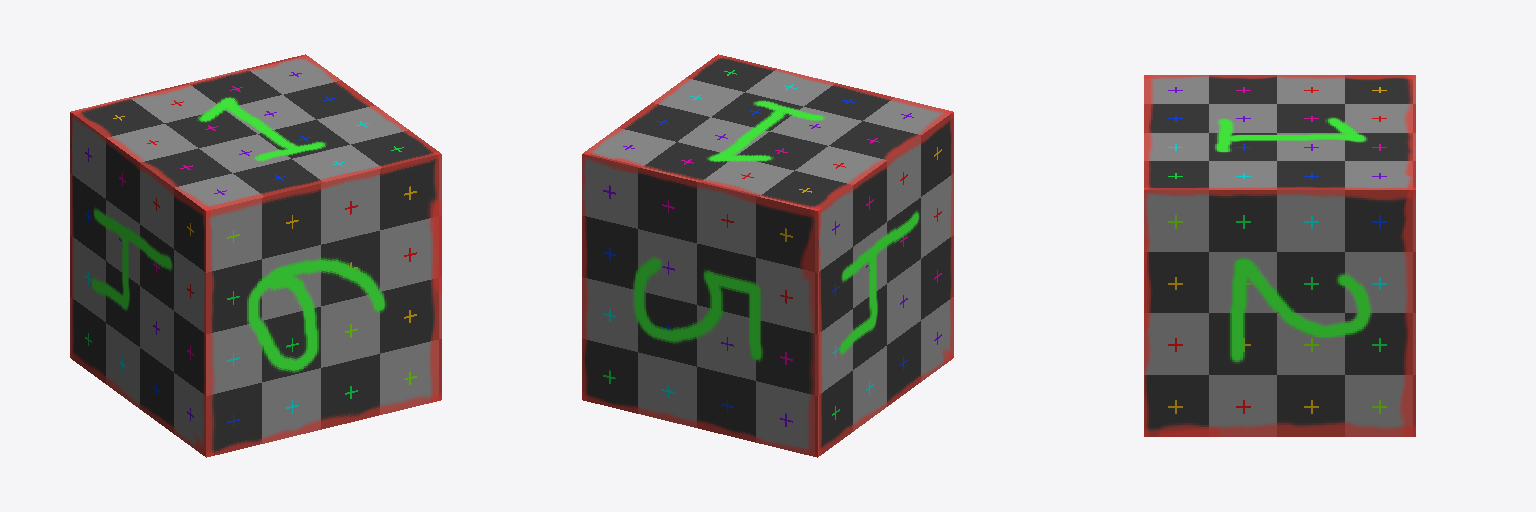
3 renders of one model, left to right at view 1: azimuth 30°, elevation 25°; view 2: azimuth 150°, elevation 25°; view 3: azimuth 270°, elevation 25°, orthographic.
Visible parts, largest first — view 1: Cube; view 2: Cube; view 3: Cube.
Boxes of the visible parts, box(x1,y1,x2,y2) form: Cube: box(70, 54, 441, 457); Cube: box(582, 54, 953, 457); Cube: box(1144, 75, 1415, 436).
Size of the model in its own units: 2 by 2 by 2.
Materials: 1 (1 with a texture image).